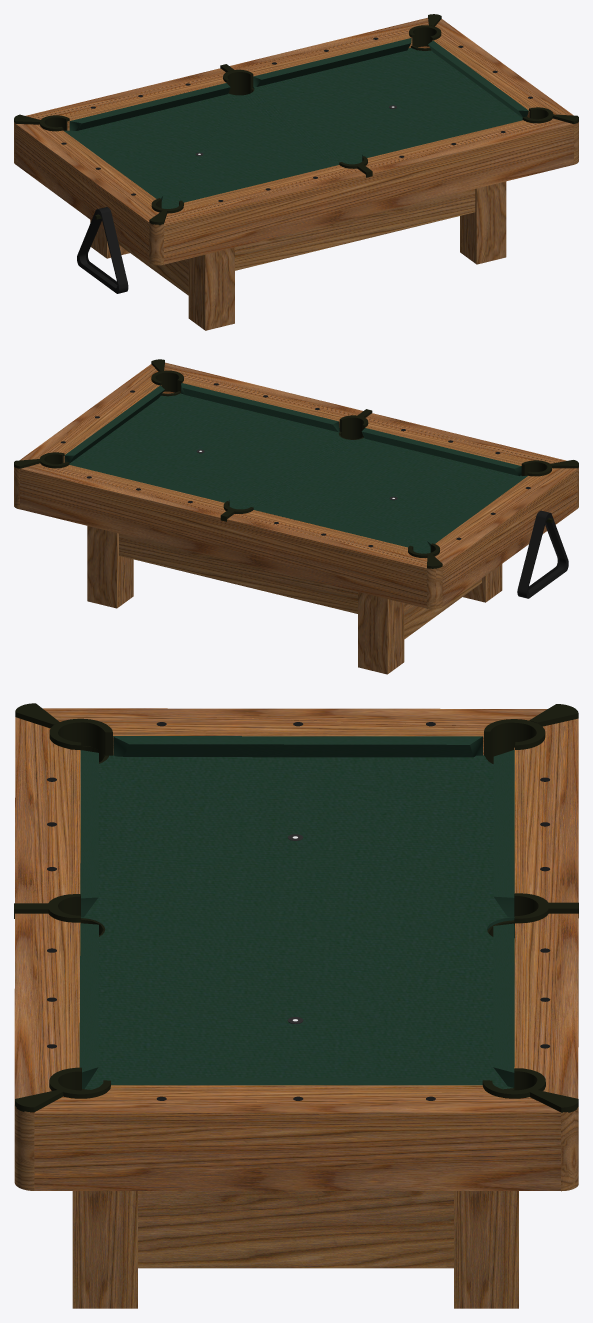
File: pool-table.obj
3 renders of one model, top to bottom at view 1: azimuth 30°, elevation 25°; view 2: azimuth 150°, elevation 25°; view 3: azimuth 270°, elevation 25°, orthographic. The views are drawn at different scales.
Visible parts, largest first — view 1: pooltable, triangle; view 2: pooltable, triangle; view 3: pooltable.
Boxes of the visible parts, x1=… form: pooltable: x1=14, y1=14, x2=578, y2=330; triangle: x1=77, y1=207, x2=128, y2=293; pooltable: x1=14, y1=359, x2=578, y2=674; triangle: x1=517, y1=510, x2=568, y2=598; pooltable: x1=14, y1=703, x2=578, y2=1308.
Size of the model in its own units: 74.2 by 21.49 by 42.43.
Materials: 7 (5 with a texture image).
